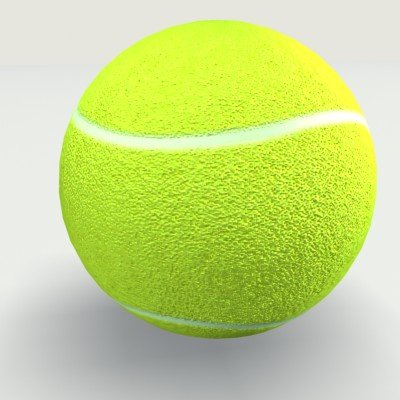tennis_ball: (60, 17, 379, 349)
